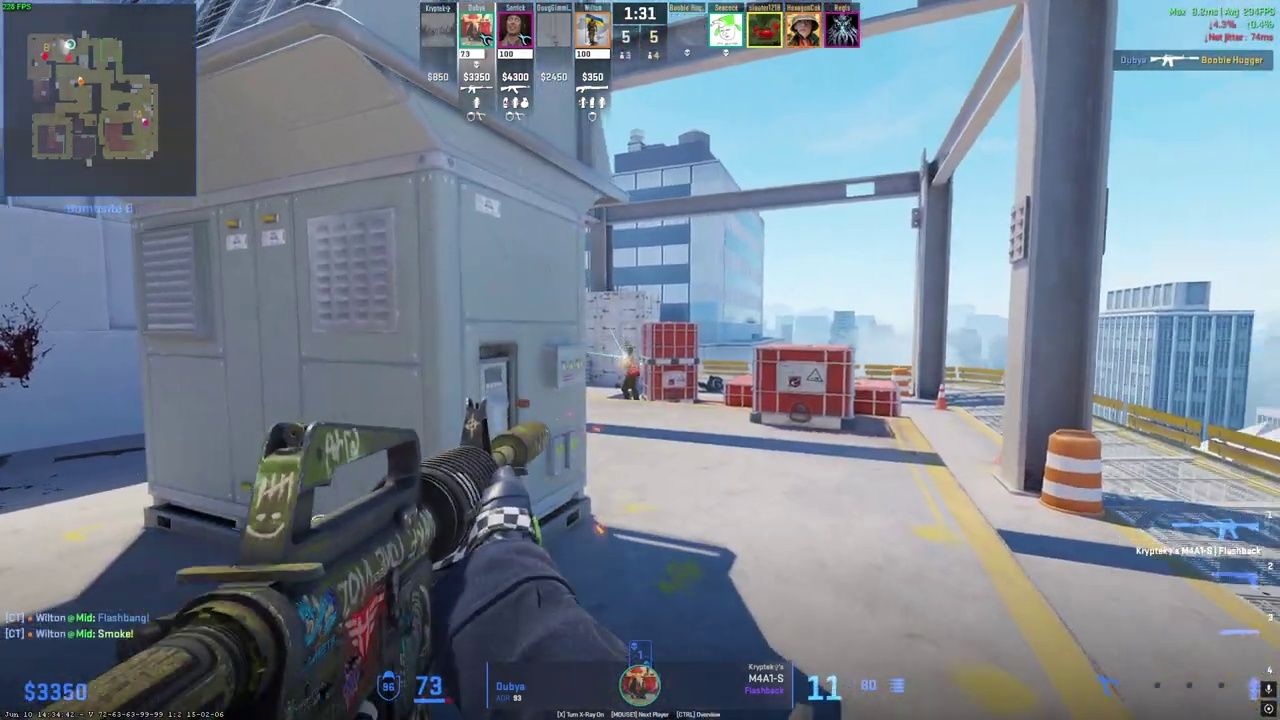Terrorist: (621, 347, 640, 400)
